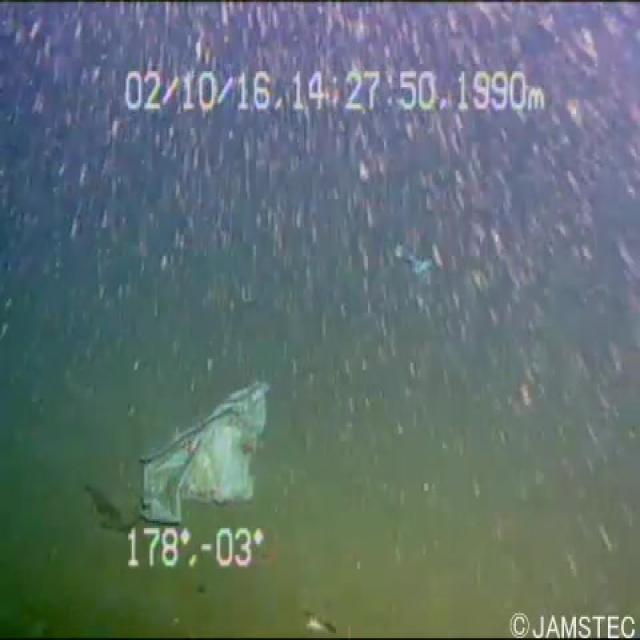plastic: (119, 366, 276, 526), (376, 224, 449, 290)
